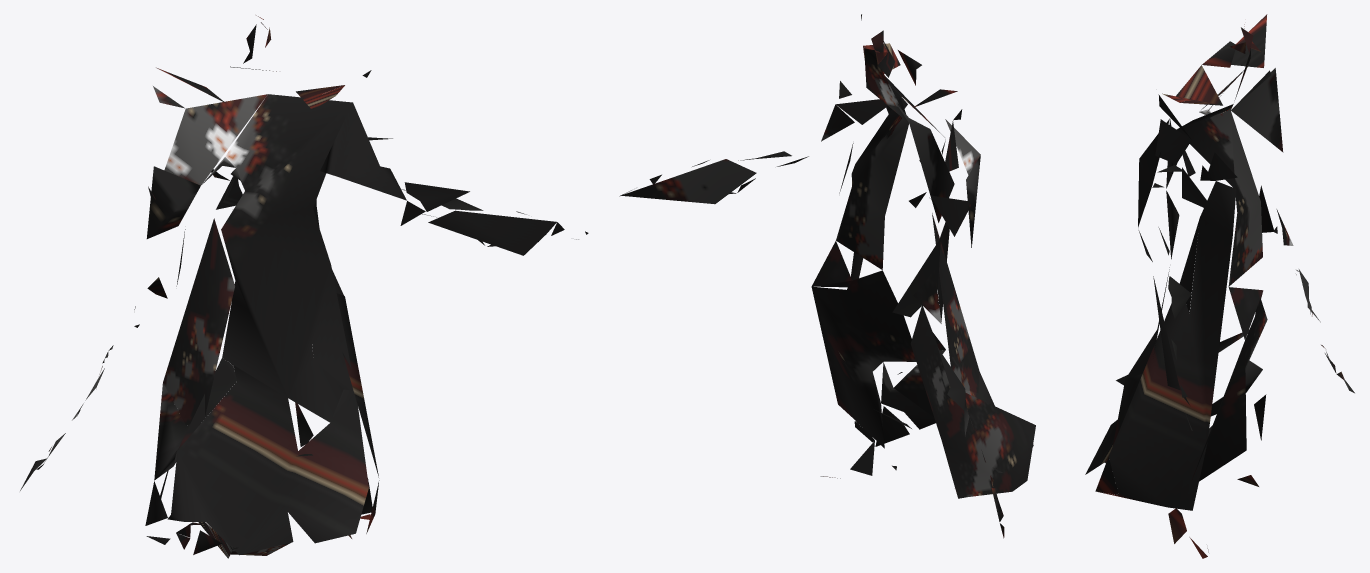
3 views of the same model, side by side, from view 1: azimuth 30°, elevation 25°; view 2: azimuth 150°, elevation 25°; view 3: azimuth 270°, elevation 25° (orthographic). The views are drawn at different scales.
Visible parts, largest first — view 1: body.002; view 2: body.002; view 3: body.002.
Part boxes in pixels (x1,y1,x2,y2): body.002: (20,15,588,558); body.002: (619,14,1035,538); body.002: (1085,14,1354,558).
Bounding box in the file's own units: 1.97 × 1.97 × 0.9871.
Materials: 1 (1 with a texture image).
